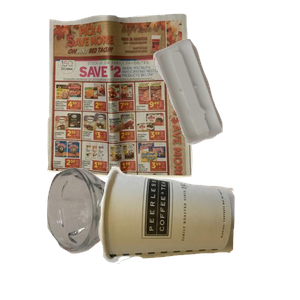glass: (44, 165, 178, 300)
paper: (44, 11, 229, 181)
plastic: (150, 36, 300, 173)
trash: (95, 164, 300, 300)
